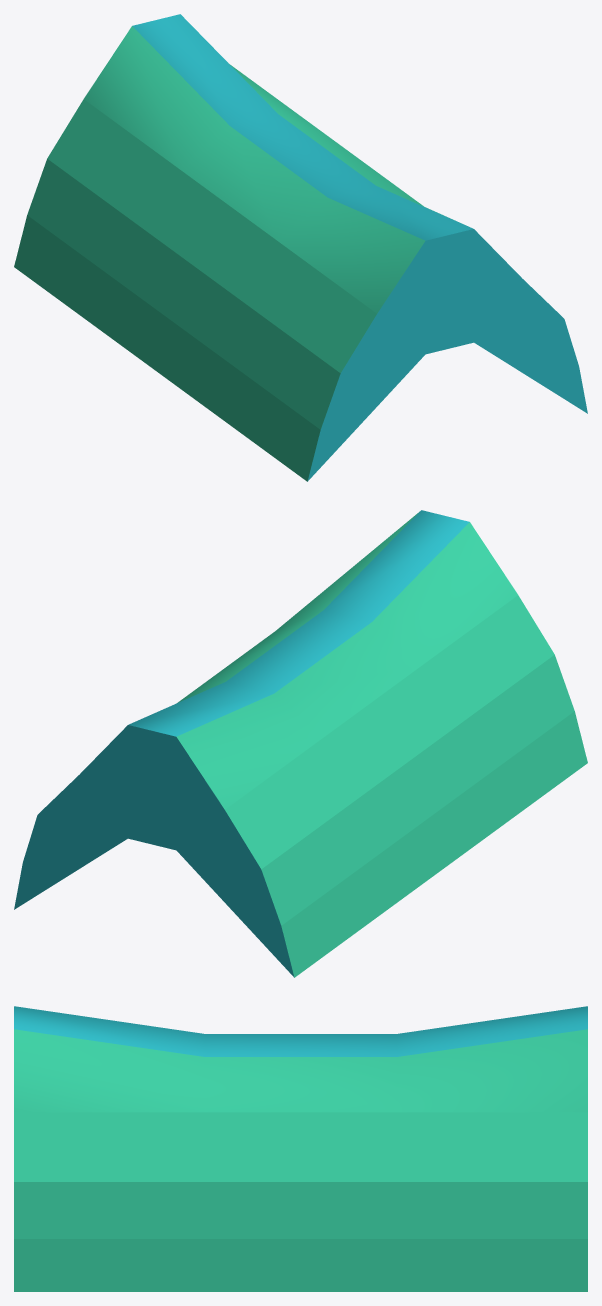
File: Tunnel 4.fbx
The picture shows the model from 3 angles, top to bottom: view 1: azimuth 30°, elevation 25°; view 2: azimuth 150°, elevation 25°; view 3: azimuth 270°, elevation 25°; orthographic projection. The views are drawn at different scales.
Visible parts, largest first — view 1: Tunnel 4; view 2: Tunnel 4; view 3: Tunnel 4.
Part boxes in pixels (<box>): Tunnel 4: <box>14,14,587,481</box>; Tunnel 4: <box>14,510,587,977</box>; Tunnel 4: <box>14,1006,587,1291</box>.
Size of the model in its own units: 38.63 by 28.01 by 70.
2 materials, 2 textured.
